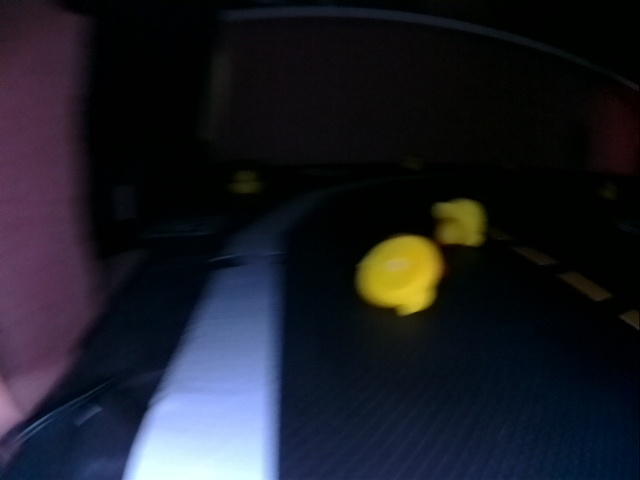Duckie: (356, 234, 445, 315), (434, 199, 486, 246), (236, 171, 261, 191)
